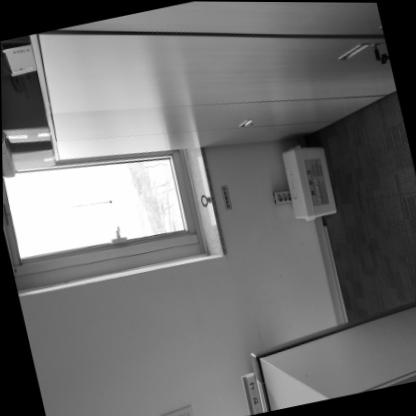DDL: (281, 139, 339, 219)
